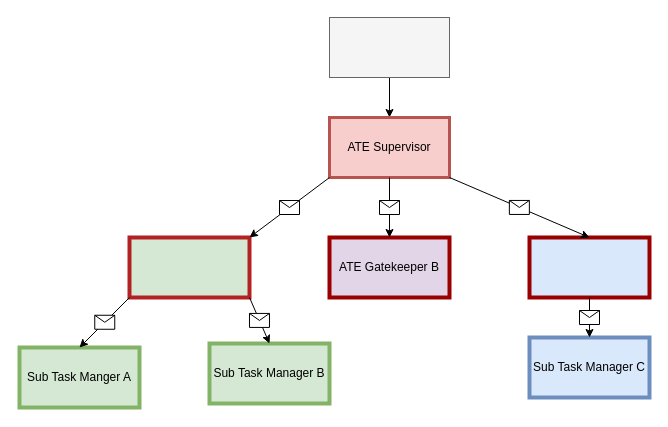
The diagram is 668 pixels wide and 427 high, and some of its shapes have lost their labels. Here are the shapes that lost their labels. From the top down, the box of each, then its label:
(328, 16, 450, 78): Launcher.vi
(127, 235, 251, 299): ATE Gatekeeper A
(527, 235, 651, 299): ATE Gatekeeper C
